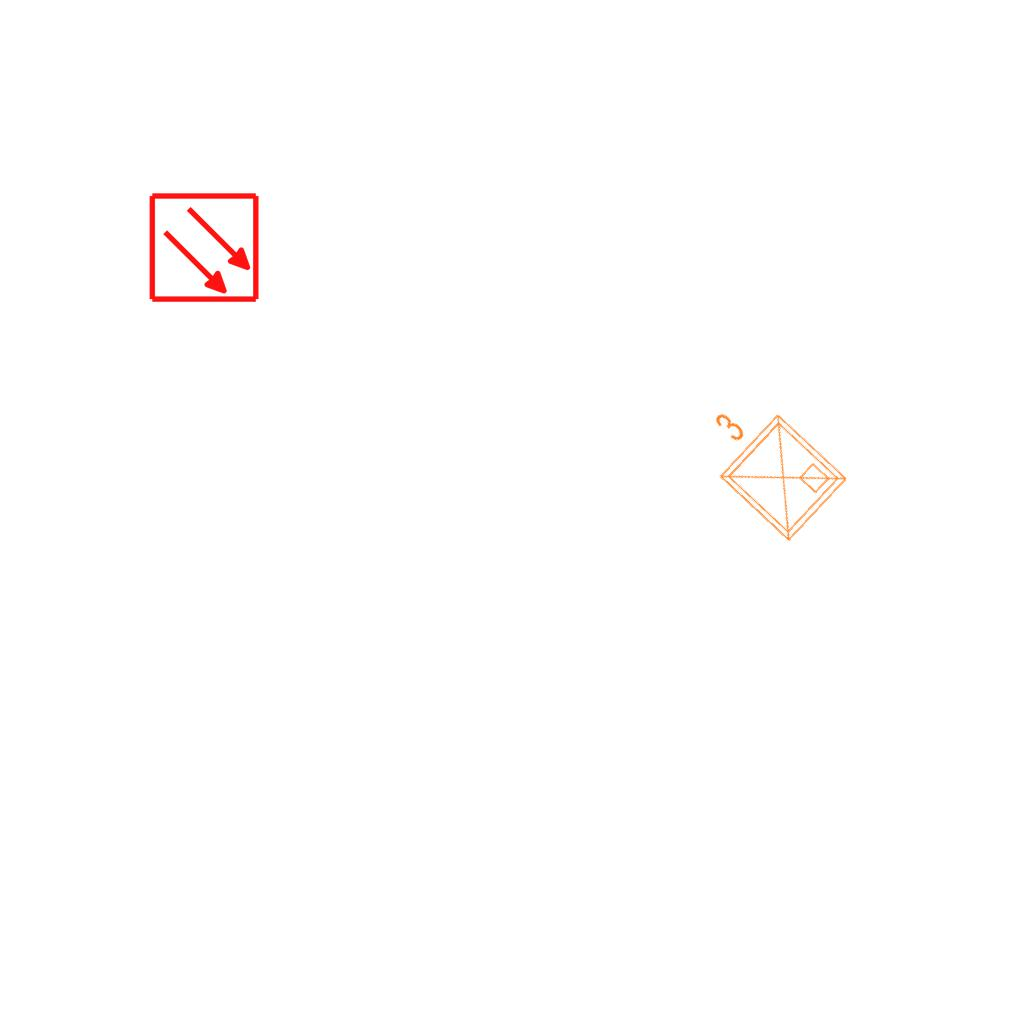Einbaudownlights_LED_Konferenzraeume: (676, 375, 858, 555)
RMO_Rauchmelder_optischer: (148, 191, 261, 304)
